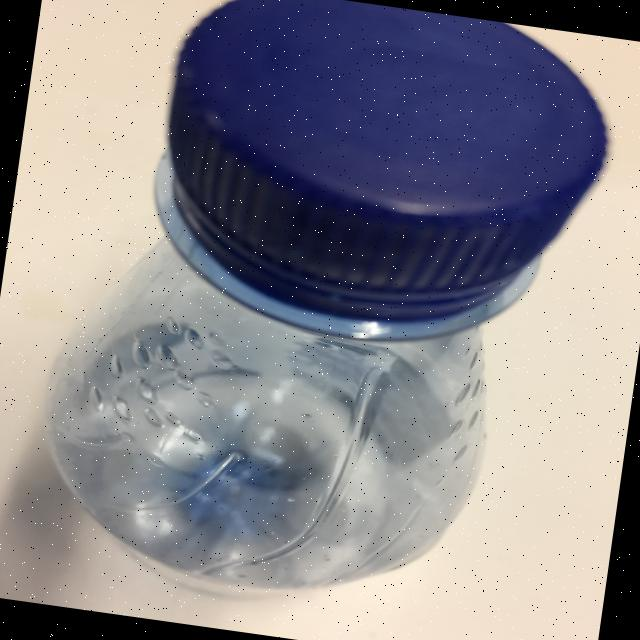plastic: (21, 0, 625, 636)
